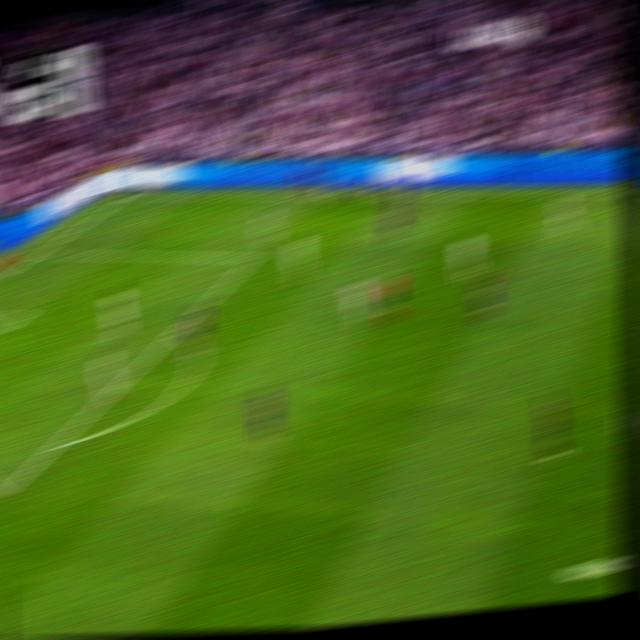bigarea_top_inner: (243, 251, 262, 264)
bigarea_top_outter: (31, 247, 50, 257)
bottom_arc_area_intersection: (43, 434, 67, 455)
corner: (120, 192, 136, 196)
smallarea_top_inner: (14, 309, 32, 320)
top_arc_area_intersection: (168, 324, 187, 335)
